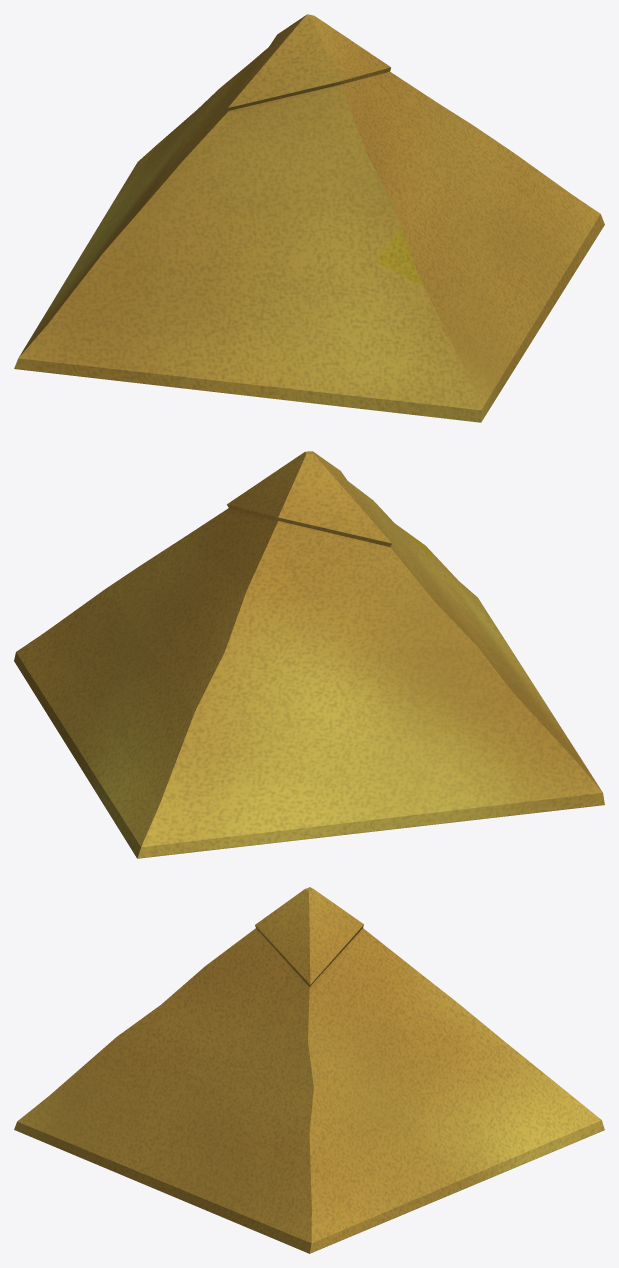
The model's file is Piramide1.gltf.
3 views of the same model, one above another, from view 1: azimuth 30°, elevation 25°; view 2: azimuth 150°, elevation 25°; view 3: azimuth 270°, elevation 25° (orthographic). The views are drawn at different scales.
Parts seen in each view (by area): view 1: Pyramid_mesh; view 2: Pyramid_mesh; view 3: Pyramid_mesh.
Boxes of the visible parts, left/top/right/bottom form: Pyramid_mesh: left=14, top=14, right=604, bottom=422; Pyramid_mesh: left=14, top=451, right=604, bottom=858; Pyramid_mesh: left=14, top=887, right=604, bottom=1253.
Bounding box in the file's own units: 10.63 × 4.82 × 10.71.
1 material, 1 textured.
